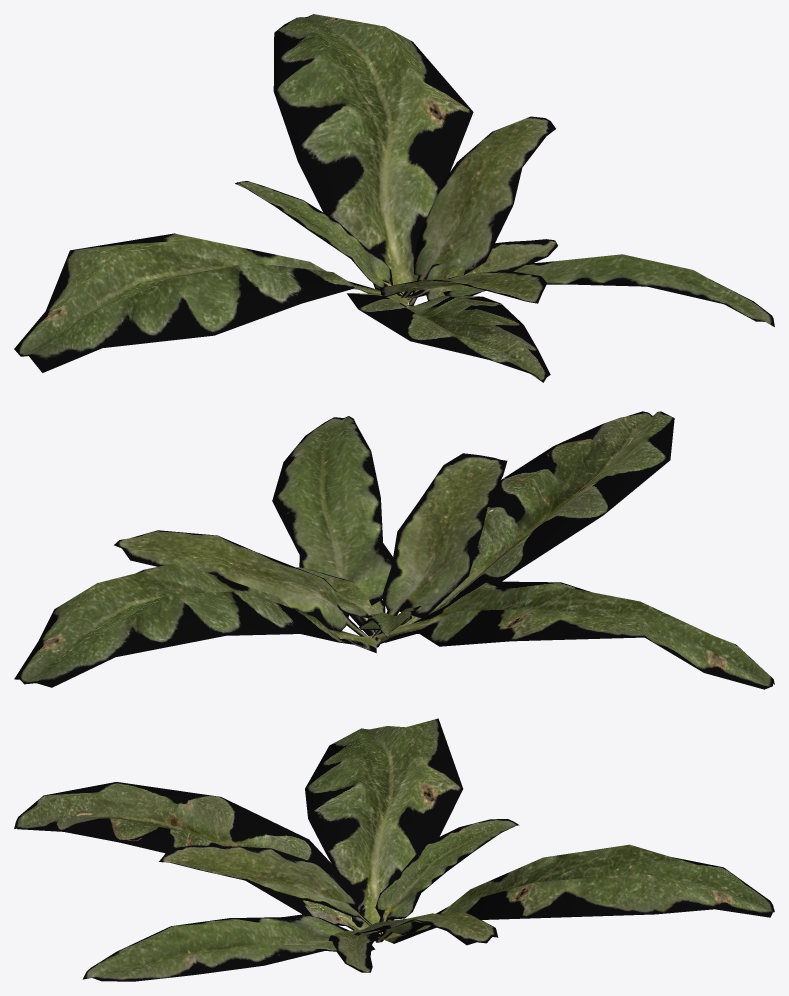
File: flower_gazania_06.glb
3 renders of one model, top to bottom at view 1: azimuth 30°, elevation 25°; view 2: azimuth 150°, elevation 25°; view 3: azimuth 270°, elevation 25°, orthographic. The views are drawn at different scales.
Parts seen in each view (by area): view 1: flower_gazania; view 2: flower_gazania; view 3: flower_gazania.
Part boxes in pixels (x1,y1,x2,y2): flower_gazania: (14,14,774,382); flower_gazania: (14,411,774,689); flower_gazania: (14,718,774,981).
Bounding box in the file's own units: 0.2149 × 0.048 × 0.2684.
1 material, 1 textured.
